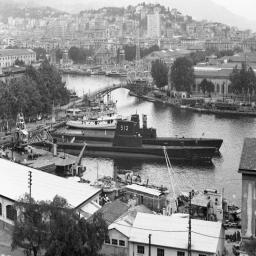submarine: (48, 121, 218, 163), (48, 114, 221, 151)
